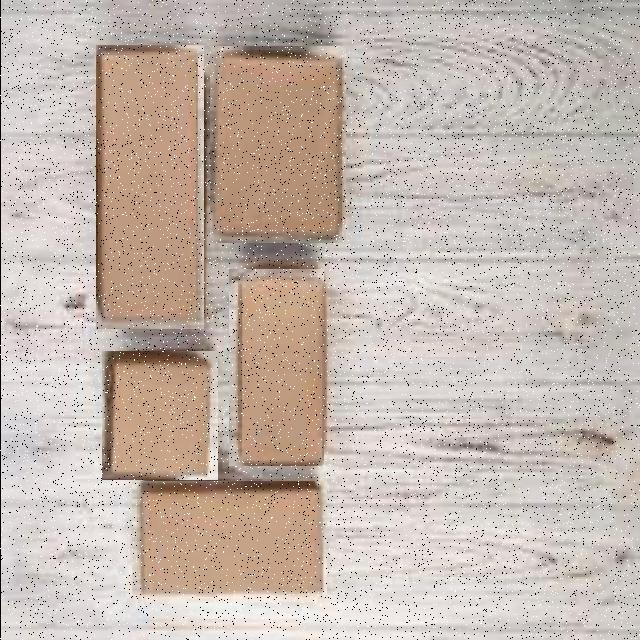normal: (95, 45, 203, 329), (209, 46, 345, 243), (131, 481, 326, 597), (228, 269, 323, 466), (101, 351, 217, 480)
